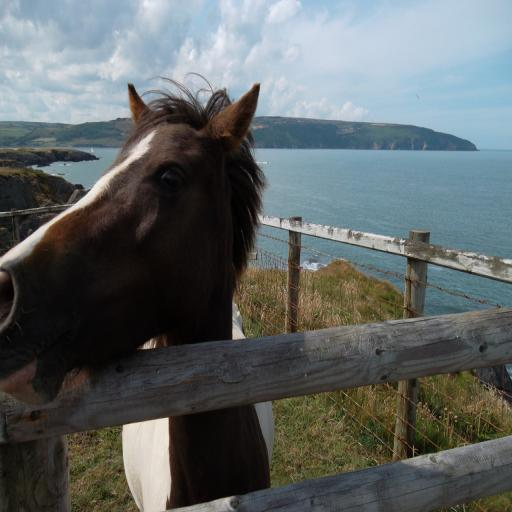horse: (0, 68, 274, 512)
